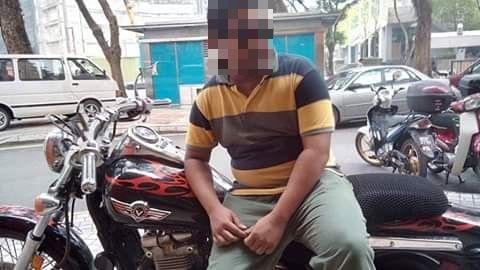bike: (1, 96, 480, 270), (356, 87, 478, 180)
car: (1, 52, 118, 129), (318, 64, 437, 130)
